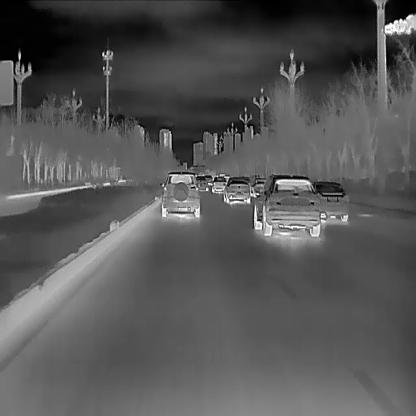car: (250, 172, 318, 236), (159, 168, 200, 219), (310, 179, 349, 220), (222, 176, 250, 203), (250, 176, 265, 197), (210, 174, 226, 192), (194, 174, 208, 191), (204, 174, 212, 182)
